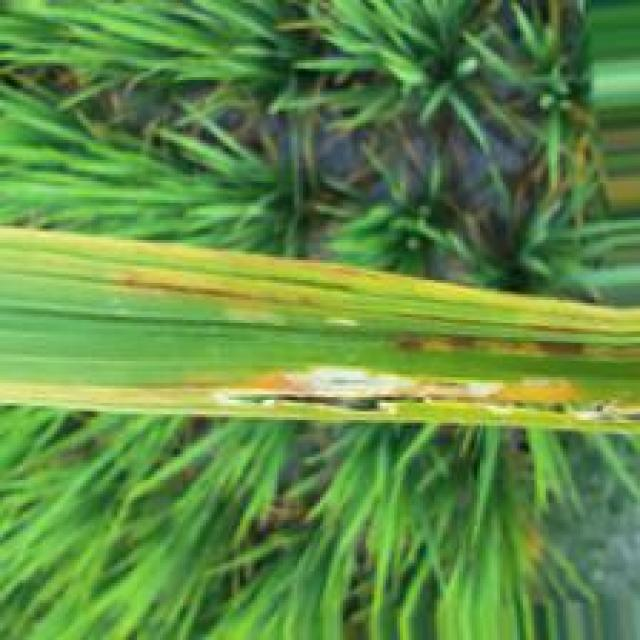Rice_Hispa: (205, 367, 637, 416)
